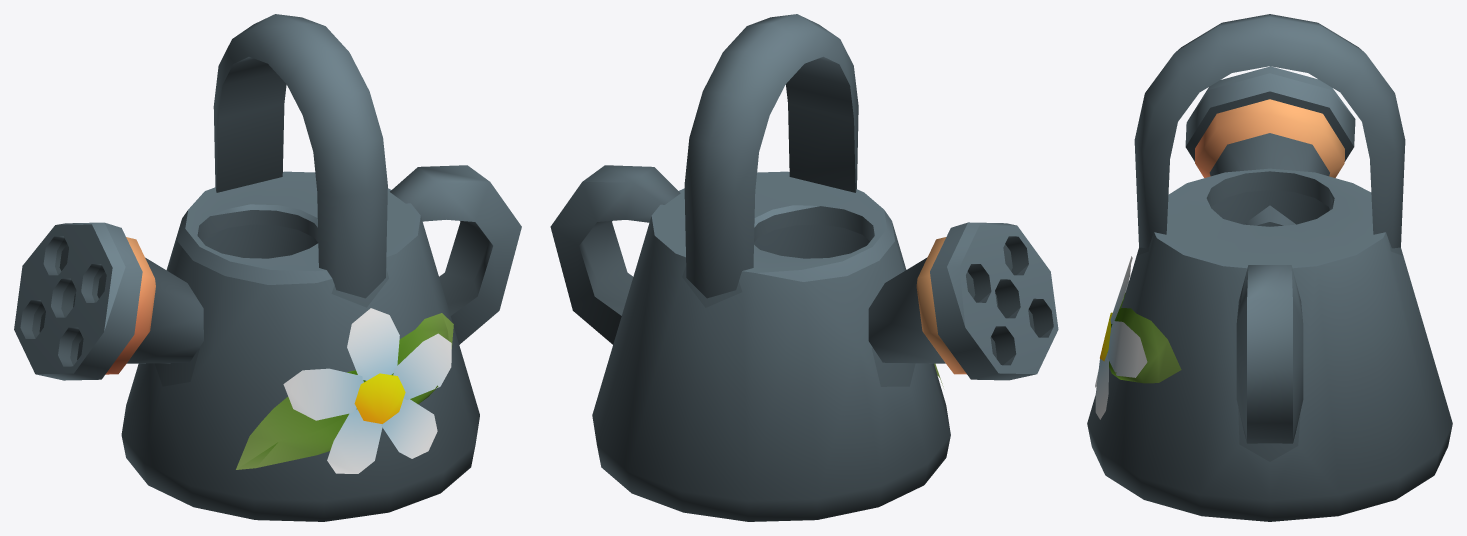
File: wateringcanwflower_002.glb
3 renders of one model, left to right at view 1: azimuth 30°, elevation 25°; view 2: azimuth 150°, elevation 25°; view 3: azimuth 270°, elevation 25°, orthographic.
Parts seen in each view (by area): view 1: wateringcanwflower.002; view 2: wateringcanwflower.002; view 3: wateringcanwflower.002.
Part boxes in pixels (bbox=[...]): wateringcanwflower.002: bbox=[14, 14, 521, 521]; wateringcanwflower.002: bbox=[550, 14, 1058, 521]; wateringcanwflower.002: bbox=[1087, 14, 1452, 521].
Size of the model in its own units: 1.03 by 0.9026 by 0.6817.
Materials: 1 (1 with a texture image).
